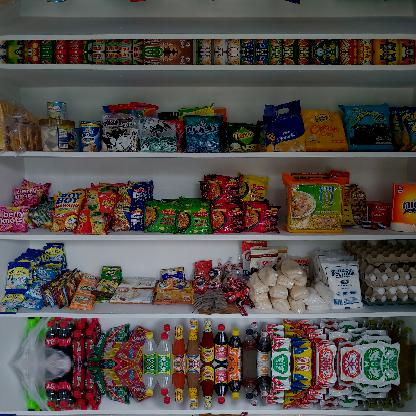Lady-s-Choice: (38, 119, 74, 151)
